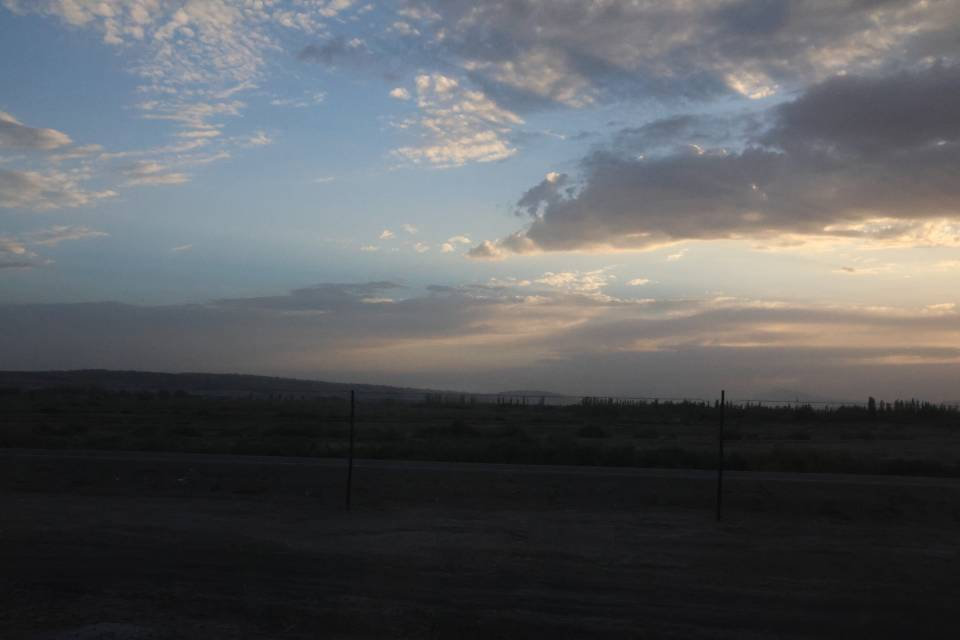Stratus: (17, 263, 958, 398), (534, 97, 960, 239), (391, 4, 952, 88)
